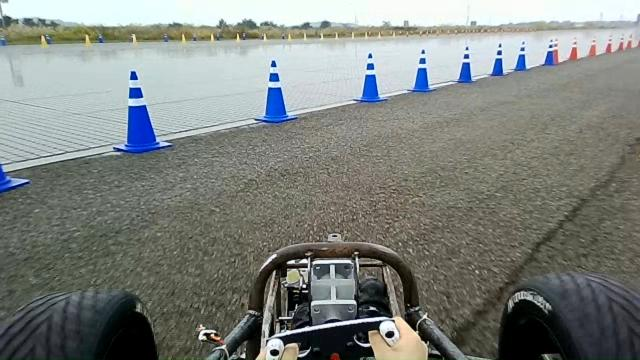blue cone: (112, 70, 172, 153), (254, 59, 298, 123), (353, 52, 387, 102), (407, 48, 436, 92), (454, 43, 476, 83), (489, 42, 508, 76), (514, 40, 528, 71), (540, 40, 556, 66)
